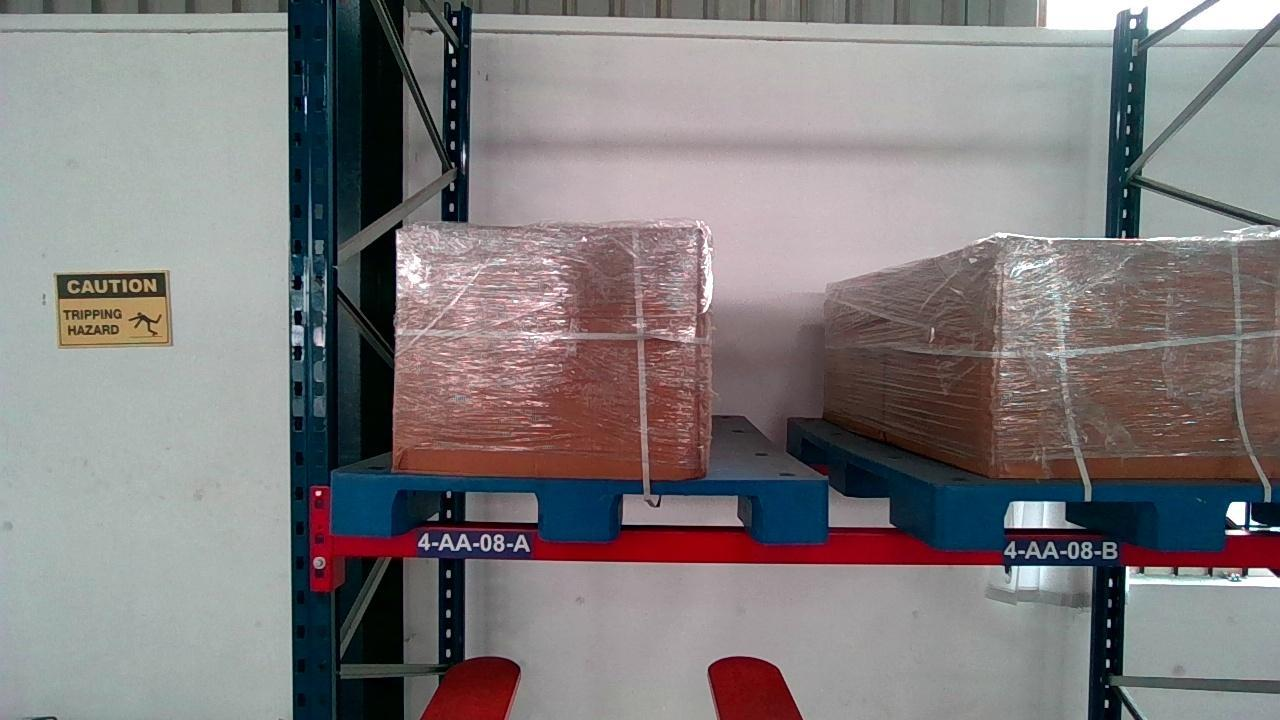h_rack: (337, 529, 1280, 564)
small_pallet: (326, 470, 826, 549), (944, 488, 1280, 553)
